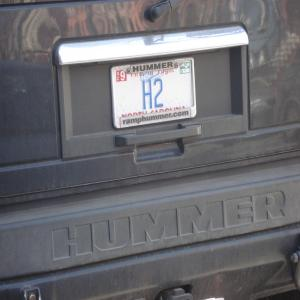Vehicle-registration-plate: (111, 57, 197, 131)
